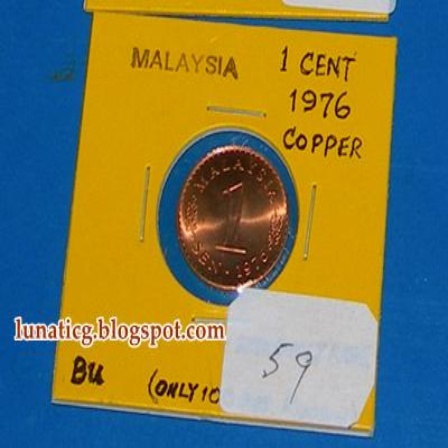1c: (175, 140, 291, 293)
